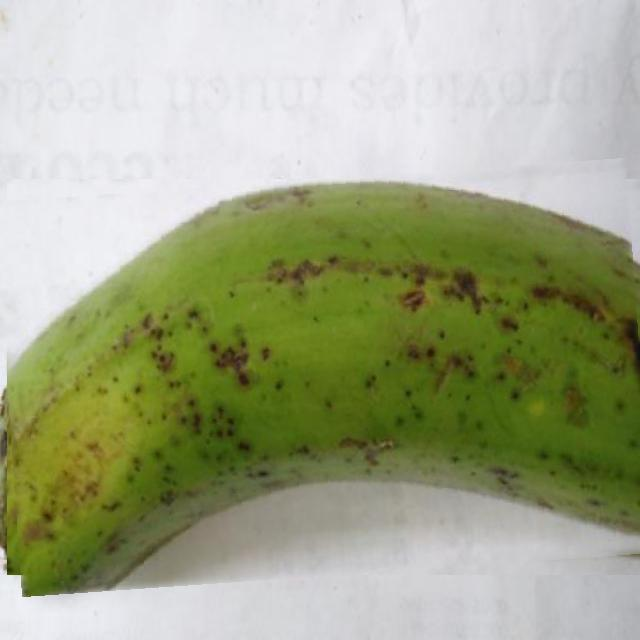Verde: (0, 169, 640, 586)
